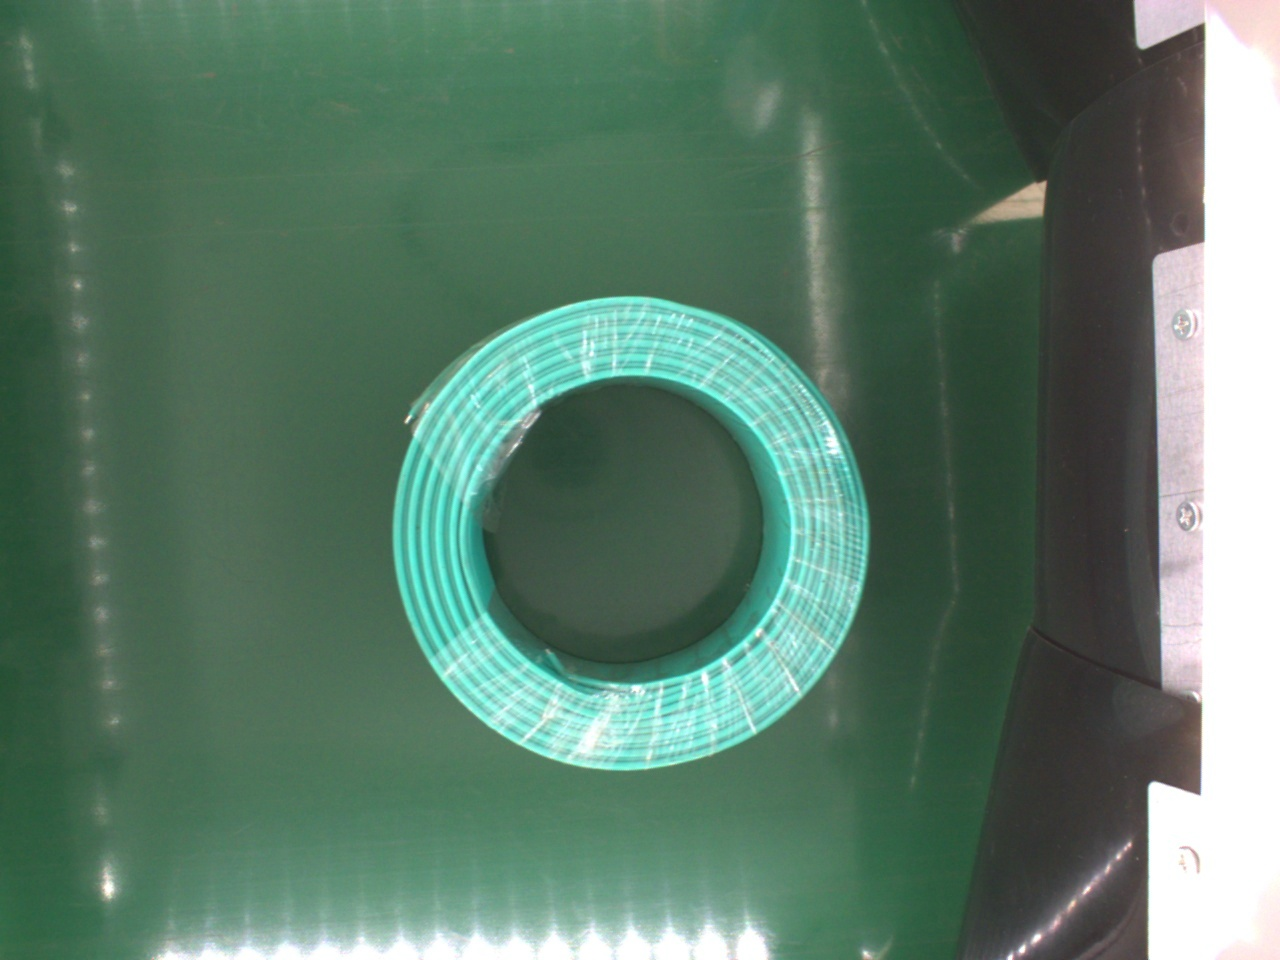green: (390, 291, 870, 774)
